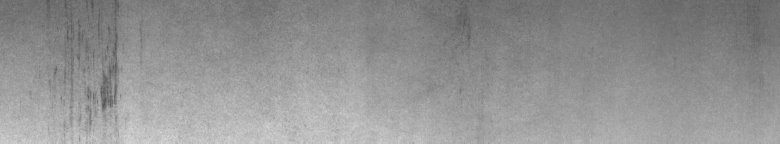ka: (54, 4, 124, 126)
